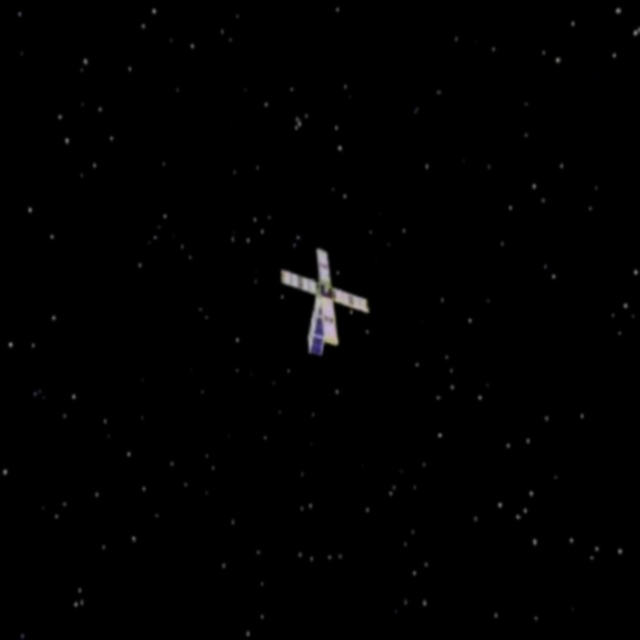satellite: (277, 240, 386, 363)
